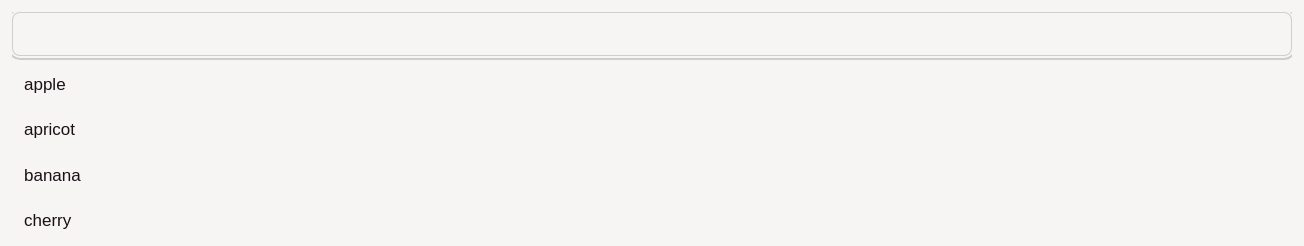
Test: Combobox › renders the empty state for a no-match query
Type "zzz" into the dropdown at (652, 34), box x1=12 y1=12 x2=1292 y2=56
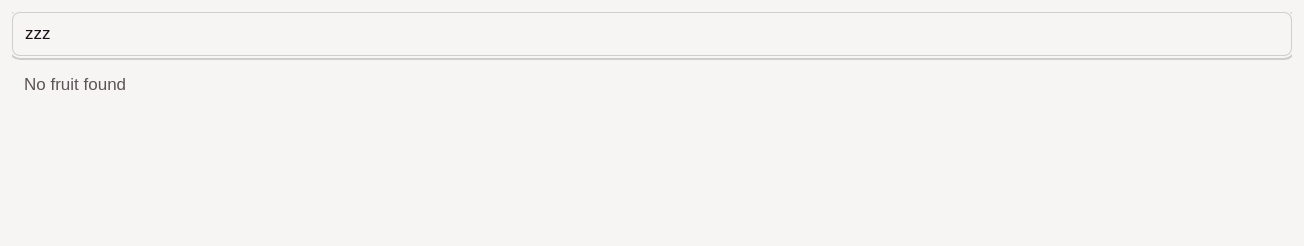
expect no options are shown: met
expect the text "No fruit found" is shown: met, box x1=24 y1=74 x2=126 y2=94
